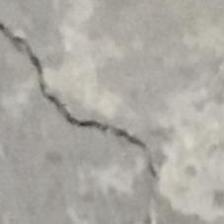Crack: (0, 15, 159, 192)
